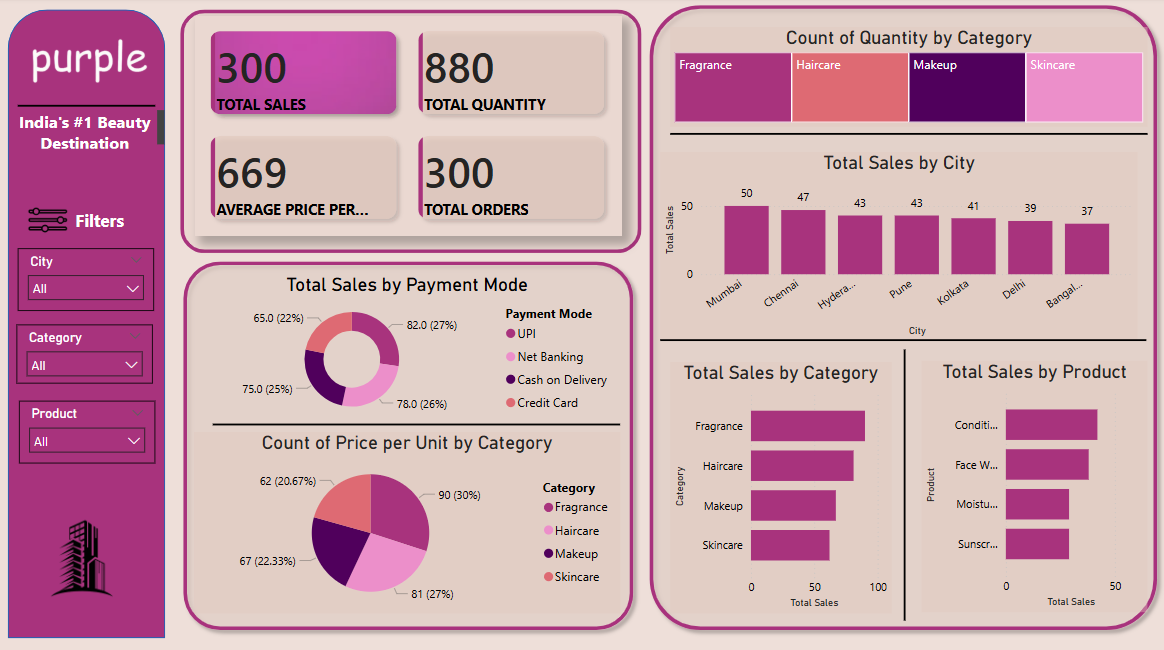

The page's visual inventory and layout, read from the dashboard file:
{"tool":"powerbi","page":{"name":"Page 1","canvas":[1280,720],"ordinal":0},"visuals":[{"type":"shape","box":[9.6,13.7,172.9,690.2],"z":0},{"type":"shape","box":[705.3,0,575,703.9],"z":1000},{"type":"shape","box":[193.5,281.3,511.8,422.6],"z":2000},{"type":"shape","box":[199,13.7,506.3,267.6],"z":3000},{"type":"donutChart","fields":{"Category":["Sheet1.Payment Mode"],"Y":["Sheet1.Total Sales"]},"box":[214.1,303.3,467.9,166],"z":4000},{"type":"cardVisual","fields":{"Data":["Sheet1.Total Sales","Sheet1.Total quantity","Sheet1.Average price  Per unit","Sheet1.Total Orders"]},"box":[215.4,20.6,467.9,241.5],"z":5000},{"type":"clusteredBarChart","fields":{"Y":["Sheet1.Total Sales"],"Category":["Sheet1.Category"]},"box":[736.9,400.7,242.9,275.8],"z":6000},{"type":"columnChart","fields":{"Category":["Sheet1.City"],"Y":["Sheet1.Total Sales"]},"box":[725.9,170.2,524.2,207.2],"z":7000},{"type":"treemap","fields":{"Group":["Sheet1.Category"],"Values":["Count(Sheet1.Quantity)"]},"box":[736.9,32.9,524.2,109.8],"z":8000},{"type":"clusteredBarChart","fields":{"Y":["Sheet1.Total Sales"],"Category":["Sheet1.Product"]},"box":[1012.7,399.3,248.4,275.8],"z":9000},{"type":"pieChart","fields":{"Y":["CountNonNull(Sheet1.Price per Unit)"],"Category":["Sheet1.Category"]},"box":[214.1,477.5,467.9,199],"z":10000},{"type":"shape","box":[736.9,94.7,524.2,111.1],"z":11000},{"type":"shape","box":[725.9,321.1,533.8,111.1],"z":12000},{"type":"shape","box":[871.4,387,245.6,297.8],"z":13000},{"type":"shape","box":[234.6,319.7,447.3,299.1],"z":14000},{"type":"image","box":[4.1,0,182.5,141.3],"z":15000},{"type":"textbox","box":[9.6,119.4,177,52.1],"z":16000},{"type":"shape","box":[20.6,94.7,150.9,49.4],"z":17000},{"type":"image","box":[4.1,119.4,98.8,258],"z":18000},{"type":"textbox","box":[22,227.8,177,48],"z":19000},{"type":"slicer","fields":{"Values":["Sheet1.City"]},"box":[20.6,275.8,149.6,68.6],"z":20000},{"type":"slicer","fields":{"Values":["Sheet1.Category"]},"box":[19.2,359.5,149.6,64.5],"z":21000},{"type":"slicer","fields":{"Values":["Sheet1.Product"]},"box":[22,443.2,149.6,68.6],"z":22000},{"type":"image","box":[20.6,528.3,141.3,175.6],"z":23000}]}

Visuals, with their boxes in screenshot pixels (x1, y1, x2, y2), scaled from the page's 1280x720 canvas onto the 1164x650 screenshot:
shape: region(9, 12, 166, 635)
shape: region(641, 0, 1163, 635)
shape: region(176, 254, 641, 635)
shape: region(181, 12, 641, 254)
donutChart - Sheet1.Payment Mode x Sheet1.Total Sales: region(195, 274, 620, 424)
cardVisual - Sheet1.Total Sales x Sheet1.Total quantity: region(196, 19, 621, 237)
clusteredBarChart - Sheet1.Total Sales x Sheet1.Category: region(670, 362, 891, 611)
columnChart - Sheet1.City x Sheet1.Total Sales: region(660, 154, 1137, 341)
treemap - Sheet1.Category x Count(Sheet1.Quantity): region(670, 30, 1147, 129)
clusteredBarChart - Sheet1.Total Sales x Sheet1.Product: region(921, 360, 1147, 609)
pieChart - CountNonNull(Sheet1.Price per Unit) x Sheet1.Category: region(195, 431, 620, 611)
shape: region(670, 85, 1147, 186)
shape: region(660, 290, 1146, 390)
shape: region(792, 349, 1016, 618)
shape: region(213, 289, 620, 559)
image: region(4, 0, 170, 128)
textbox: region(9, 108, 170, 155)
shape: region(19, 85, 156, 130)
image: region(4, 108, 94, 341)
textbox: region(20, 206, 181, 249)
slicer - Sheet1.City: region(19, 249, 155, 311)
slicer - Sheet1.Category: region(17, 325, 154, 383)
slicer - Sheet1.Product: region(20, 400, 156, 462)
image: region(19, 477, 147, 635)
